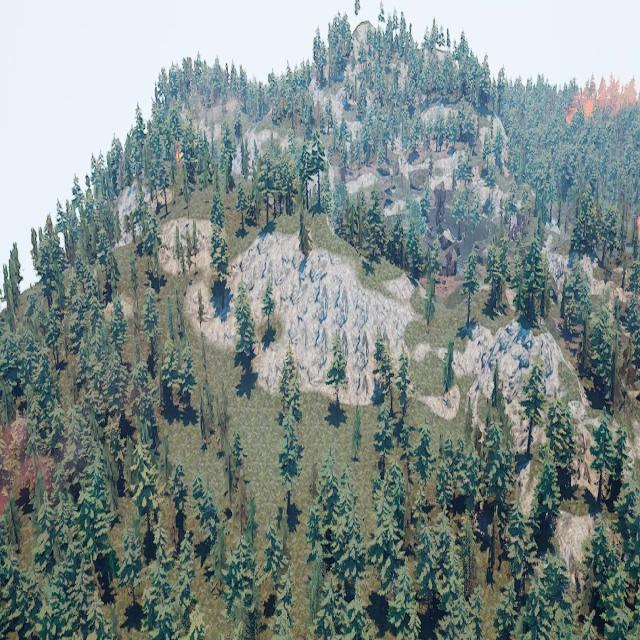fire: (175, 145, 185, 162), (637, 213, 640, 241)
smoke: (0, 412, 49, 517), (569, 66, 640, 121), (566, 89, 593, 124)
